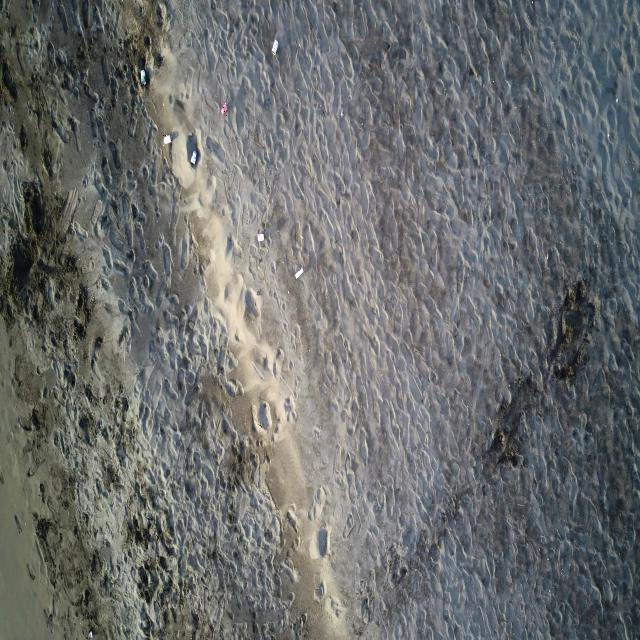tin-and-aluminum-cans: (294, 266, 304, 280), (271, 39, 279, 56), (163, 134, 173, 146), (190, 150, 198, 165), (220, 103, 228, 116), (257, 232, 265, 244), (140, 70, 146, 86)
